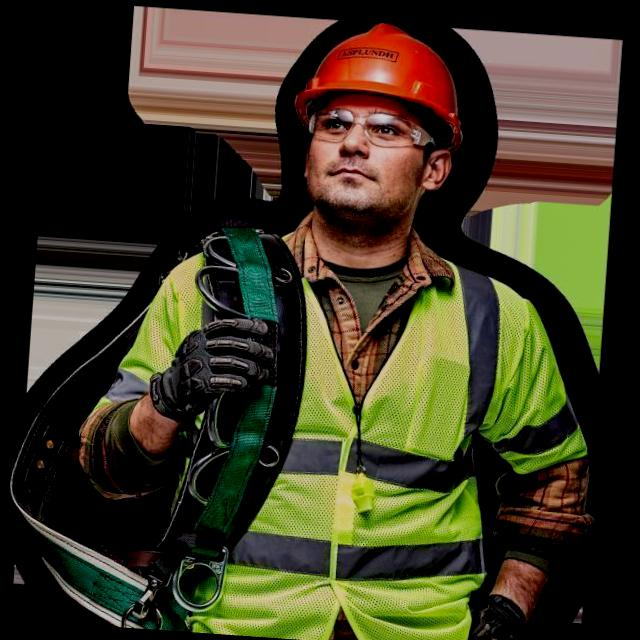vest: (67, 227, 600, 640)
